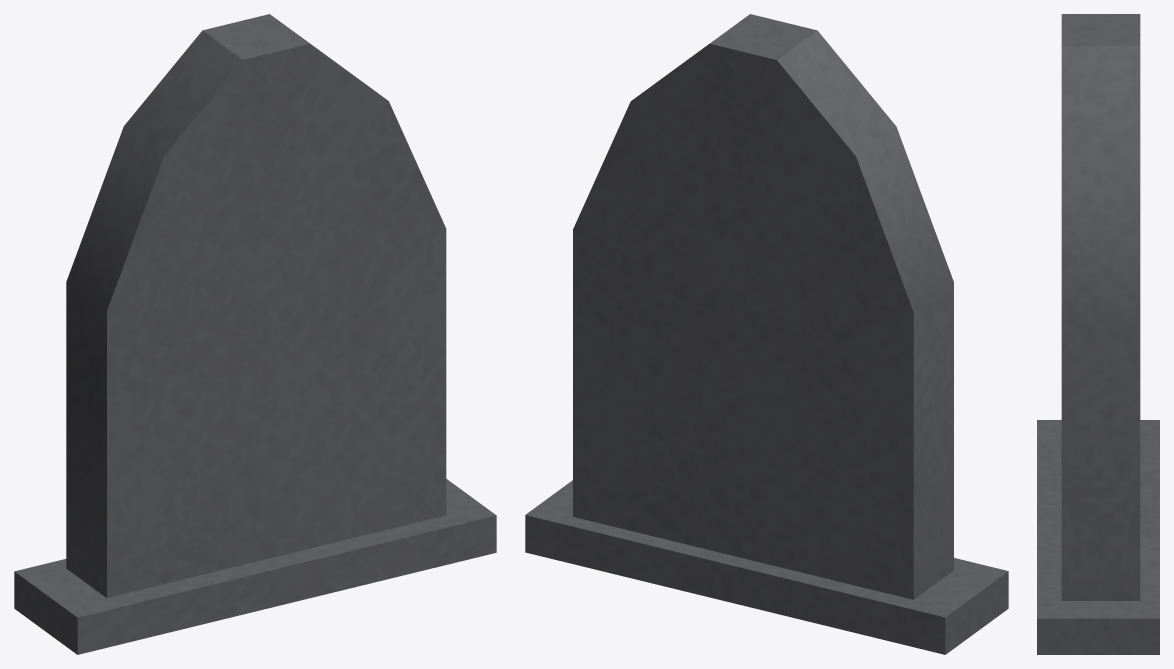
Rendered from TombStoneV2.obj.
The picture shows the model from 3 angles, left to right: view 1: azimuth 30°, elevation 25°; view 2: azimuth 150°, elevation 25°; view 3: azimuth 270°, elevation 25°; orthographic projection. The views are drawn at different scales.
Visible parts, largest first — view 1: TombStoneV2_tombstonde_TypeB; view 2: TombStoneV2_tombstonde_TypeB; view 3: TombStoneV2_tombstonde_TypeB.
Boxes of the visible parts, left/top/right/bottom form: TombStoneV2_tombstonde_TypeB: left=14, top=14, right=496, bottom=654; TombStoneV2_tombstonde_TypeB: left=525, top=14, right=1008, bottom=654; TombStoneV2_tombstonde_TypeB: left=1037, top=14, right=1159, bottom=654.
Bounding box in the file's own units: 2.77 × 3.42 × 0.7231.
